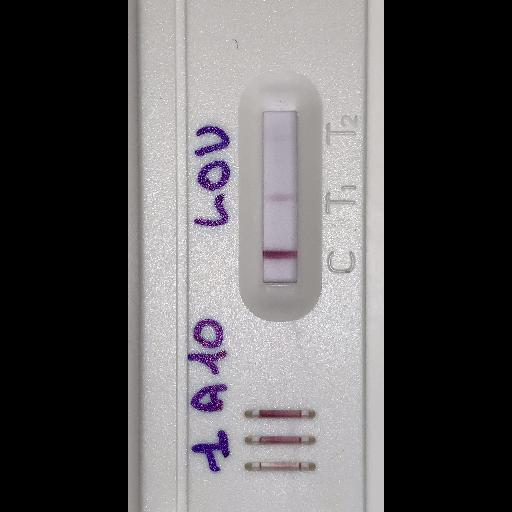Pos: (130, 0, 366, 512)
